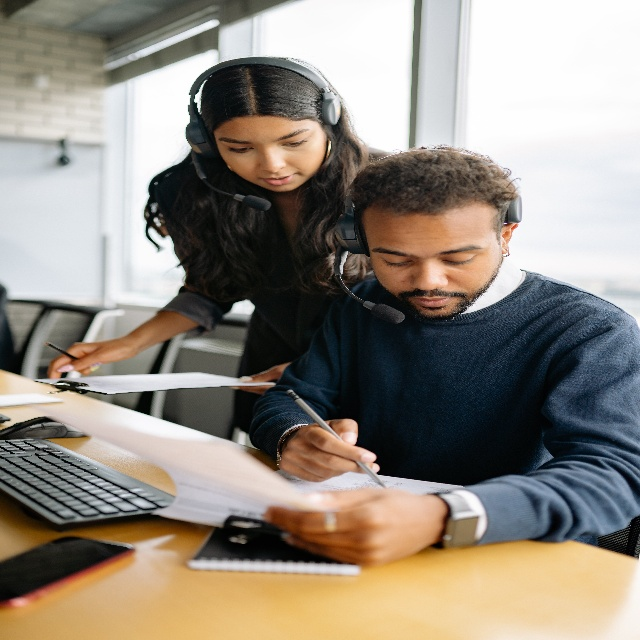Sin_guantes: (260, 488, 444, 557), (279, 419, 384, 475), (46, 334, 133, 377), (229, 363, 286, 389)
